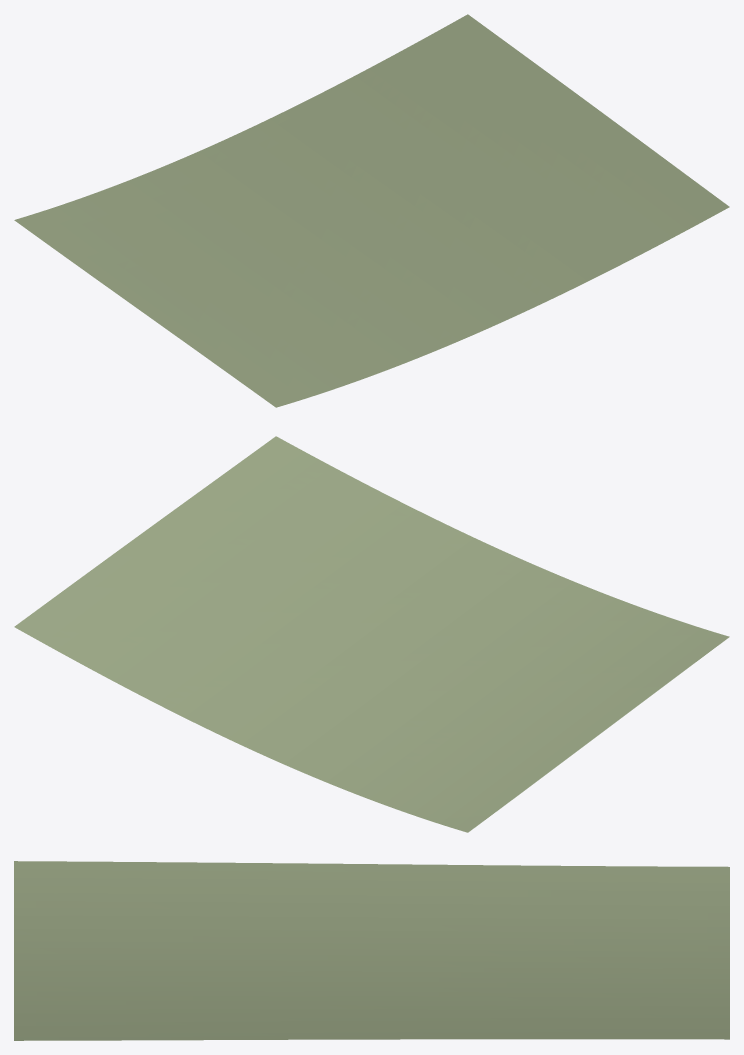
Rendered from desert-22-2.glb.
3 views of the same model, one above another, from view 1: azimuth 30°, elevation 25°; view 2: azimuth 150°, elevation 25°; view 3: azimuth 270°, elevation 25° (orthographic). The views are drawn at different scales.
Parts seen in each view (by area): view 1: desert-22-2; view 2: desert-22-2; view 3: desert-22-2.
Boxes of the visible parts, <box> form: desert-22-2: <box>14,14,729,407</box>; desert-22-2: <box>14,436,729,832</box>; desert-22-2: <box>14,861,729,1040</box>.
Size of the model in its own units: 512 by 103 by 512.
